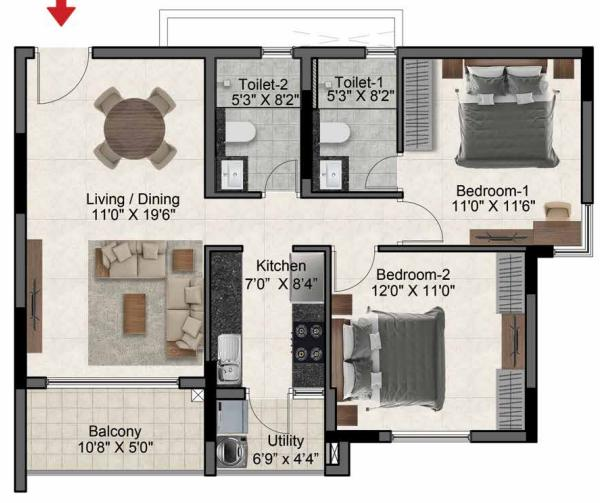Balcony: (25, 388, 208, 476)
Bed: (456, 53, 555, 168), (334, 310, 443, 408)
Bedroom: (333, 252, 526, 437), (403, 52, 586, 246)
Dining Room: (27, 58, 204, 233)
Dining table: (81, 80, 184, 175)
Kitchen: (212, 249, 329, 392)
Living Room: (27, 239, 202, 381)
Sofa: (165, 279, 205, 353), (96, 241, 164, 283)
Wardrobe: (399, 58, 438, 156), (495, 254, 525, 308), (501, 370, 523, 427)
commode: (225, 124, 257, 144), (320, 123, 350, 144)
door: (40, 50, 87, 105), (246, 383, 290, 436), (325, 249, 376, 293), (399, 199, 445, 246), (360, 155, 397, 191), (267, 157, 297, 192)
fridge: (290, 250, 325, 303)
kitchen-slab: (209, 249, 243, 388), (291, 302, 325, 389)
sink: (215, 334, 241, 383), (219, 438, 246, 467), (319, 161, 342, 189), (221, 162, 242, 189)
stove: (292, 321, 325, 360)
toilet: (215, 57, 306, 199), (308, 56, 397, 193)
tv: (471, 229, 567, 250), (28, 244, 44, 358), (497, 307, 524, 367)
utility: (215, 395, 322, 470)
washing-machine: (215, 400, 250, 437)
